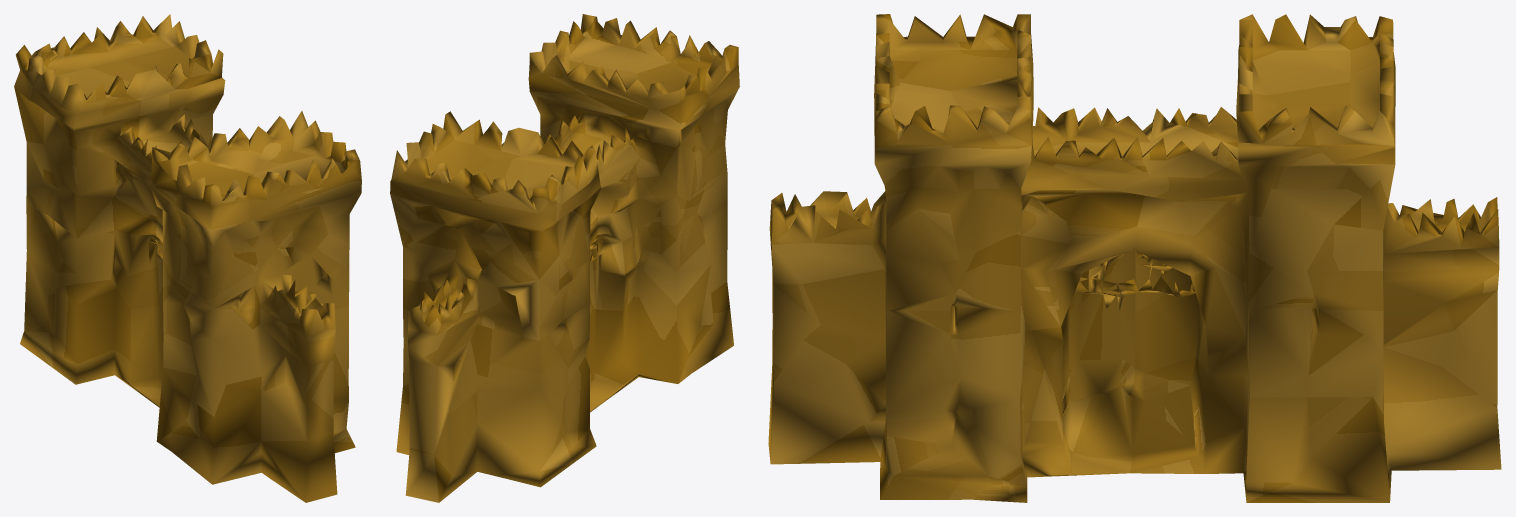
The model's file is castle_gate_gold_lo.glb.
3 renders of one model, left to right at view 1: azimuth 30°, elevation 25°; view 2: azimuth 150°, elevation 25°; view 3: azimuth 270°, elevation 25°, orthographic. The views are drawn at different scales.
Parts seen in each view (by area): view 1: tripo_node_6839004b-7382-44ca-bf7b-c0f1d9af2ed8; view 2: tripo_node_6839004b-7382-44ca-bf7b-c0f1d9af2ed8; view 3: tripo_node_6839004b-7382-44ca-bf7b-c0f1d9af2ed8.
Part boxes in pixels (<box>): tripo_node_6839004b-7382-44ca-bf7b-c0f1d9af2ed8: <box>14,14,361,502</box>; tripo_node_6839004b-7382-44ca-bf7b-c0f1d9af2ed8: <box>390,14,739,502</box>; tripo_node_6839004b-7382-44ca-bf7b-c0f1d9af2ed8: <box>768,14,1501,502</box>.
Bounding box in the file's own units: 0.3119 × 0.5831 × 0.9815.
1 material, 1 textured.
